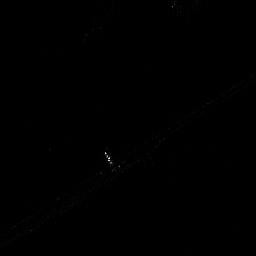ship: (101, 149, 123, 176)
